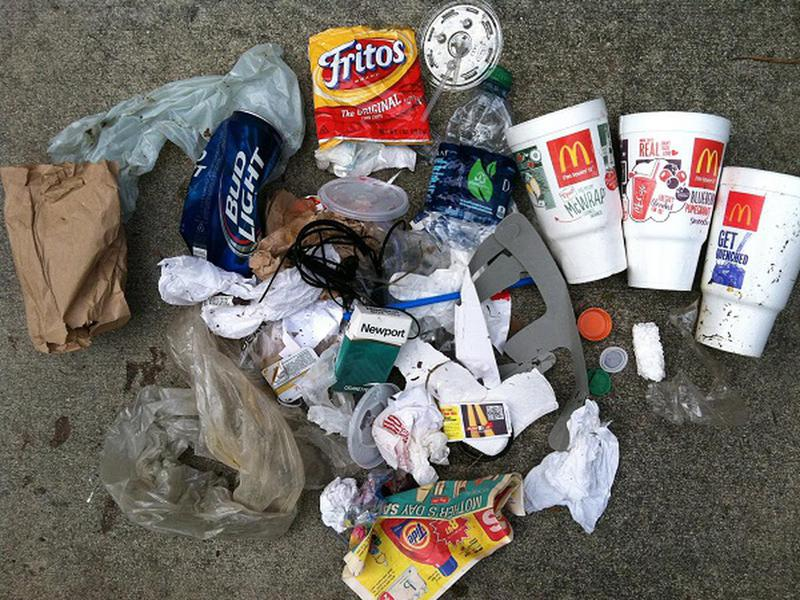bottle: (419, 76, 514, 255)
can: (174, 106, 288, 274), (412, 1, 510, 92)
cup: (500, 95, 627, 281), (613, 101, 734, 293), (693, 161, 798, 360)
paper: (2, 150, 136, 362), (343, 473, 523, 600), (526, 400, 632, 539)
plastic: (76, 315, 303, 551), (42, 43, 305, 168), (300, 21, 426, 146), (157, 254, 325, 339)
